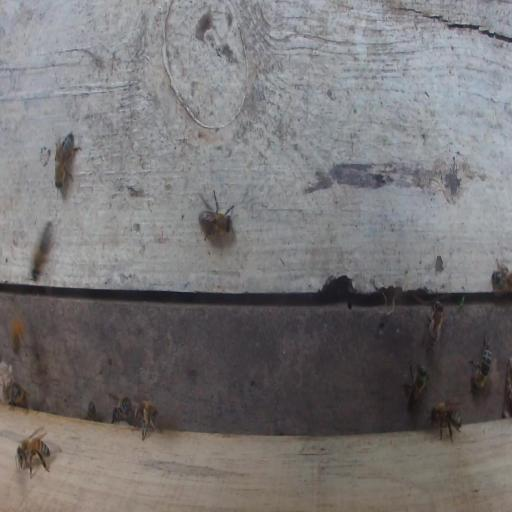bee: (15, 424, 53, 482), (197, 188, 235, 241), (31, 213, 57, 284), (53, 129, 83, 190), (423, 284, 445, 359), (427, 398, 463, 443), (400, 358, 428, 414), (466, 333, 492, 391), (134, 393, 164, 442), (105, 390, 135, 426), (490, 255, 511, 297), (9, 378, 30, 415)
